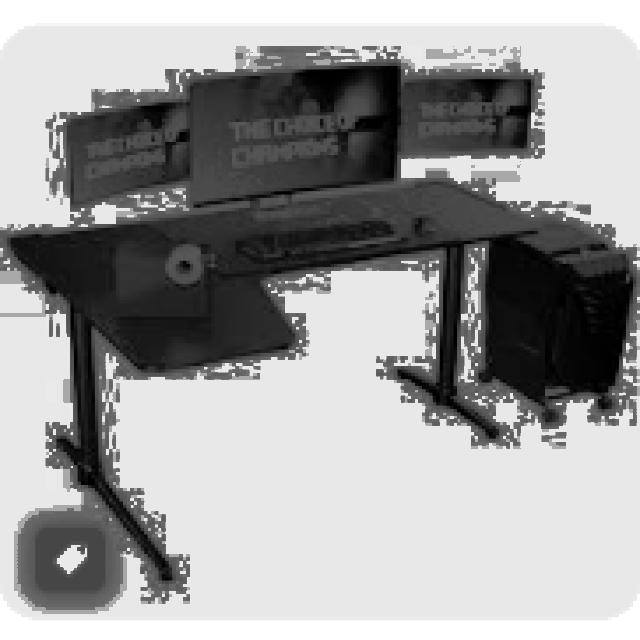table: (4, 174, 538, 580)
